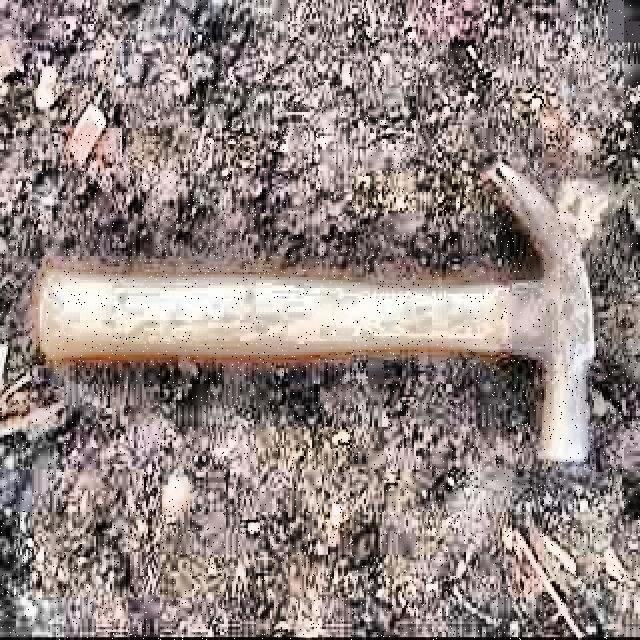hammer: (37, 164, 600, 467)
